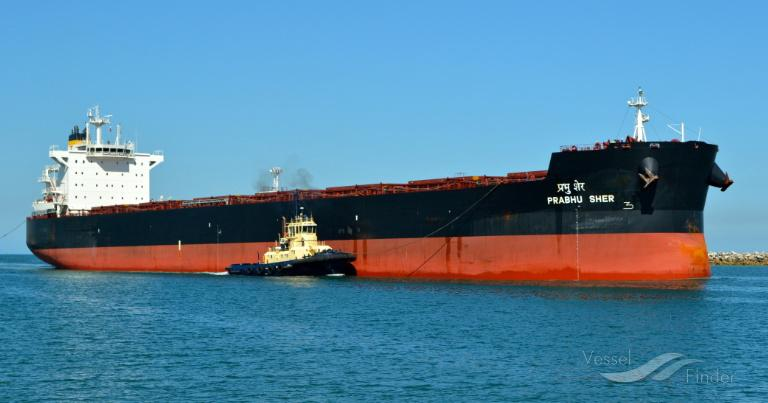OCR: (538, 178, 622, 212)
